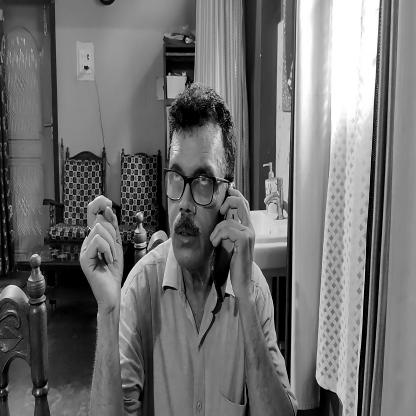Normal: (162, 88, 233, 276)
